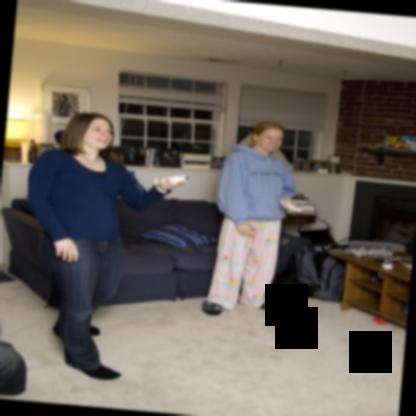backpack: (269, 251, 347, 303)
